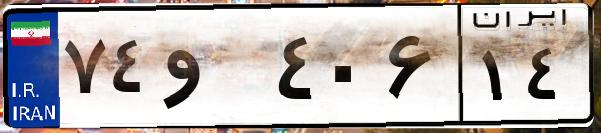0: (330, 28, 385, 110)
1: (475, 38, 525, 113)
4: (270, 28, 330, 110), (525, 38, 570, 115), (110, 28, 158, 98)
6: (385, 28, 445, 110)
7: (57, 26, 110, 100)
و: (158, 20, 270, 120)
